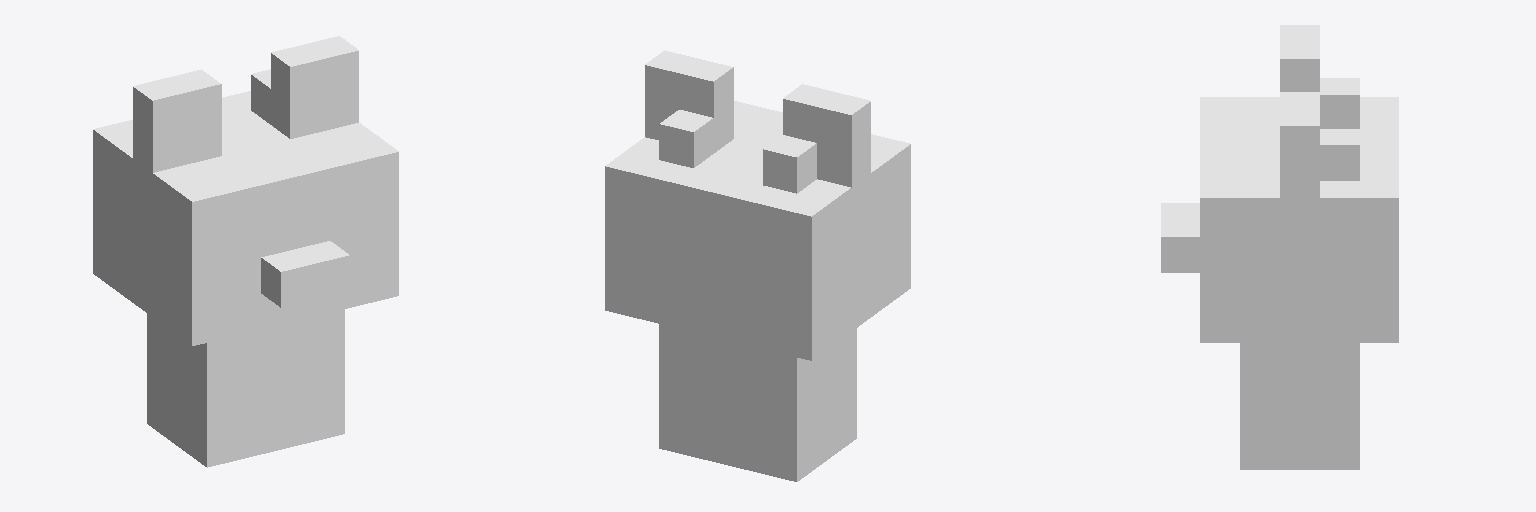
Rendered from Player_FSquirrel_Body.obj.
The picture shows the model from 3 angles: view 1: azimuth 30°, elevation 25°; view 2: azimuth 150°, elevation 25°; view 3: azimuth 270°, elevation 25°; orthographic projection.
Visible parts, largest first — view 1: object 1; view 2: object 1; view 3: object 1.
Boxes of the visible parts, <box> form: object 1: <box>93,36,398,467</box>; object 1: <box>605,50,910,481</box>; object 1: <box>1161,25,1398,469</box>.
Bounding box in the file's own units: 0.6 × 1 × 0.6.